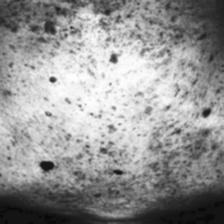Unclassified: (102, 46, 132, 66), (200, 104, 218, 119)
